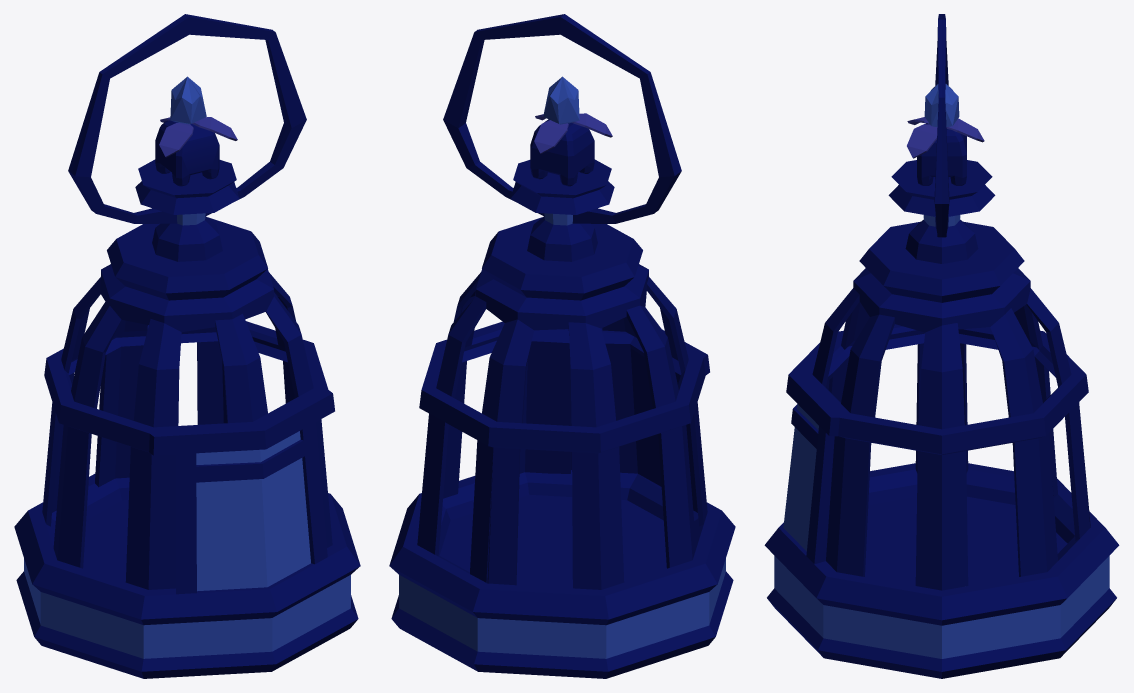
The model's file is birdcage.fbx.
3 renders of one model, left to right at view 1: azimuth 30°, elevation 25°; view 2: azimuth 150°, elevation 25°; view 3: azimuth 270°, elevation 25°, orthographic.
Visible parts, largest first — view 1: kago, body.001, flower.001, ha.004; view 2: kago, body.001, flower.001, ha.005; view 3: kago, body.001, flower.001, ha.003.
Part boxes in pixels (x1=…): kago: x1=14, y1=14, x2=360, y2=678; body.001: x1=155, y1=120, x2=219, y2=186; flower.001: x1=170, y1=76, x2=206, y2=124; ha.004: x1=159, y1=123, x2=193, y2=157; kago: x1=389, y1=14, x2=735, y2=678; body.001: x1=530, y1=119, x2=594, y2=186; flower.001: x1=543, y1=76, x2=579, y2=124; ha.005: x1=534, y1=120, x2=568, y2=153; kago: x1=764, y1=14, x2=1119, y2=678; body.001: x1=917, y1=123, x2=966, y2=185; flower.001: x1=924, y1=84, x2=959, y2=126; ha.003: x1=907, y1=124, x2=937, y2=158.
Size of the model in its own units: 245 by 448 by 245.
